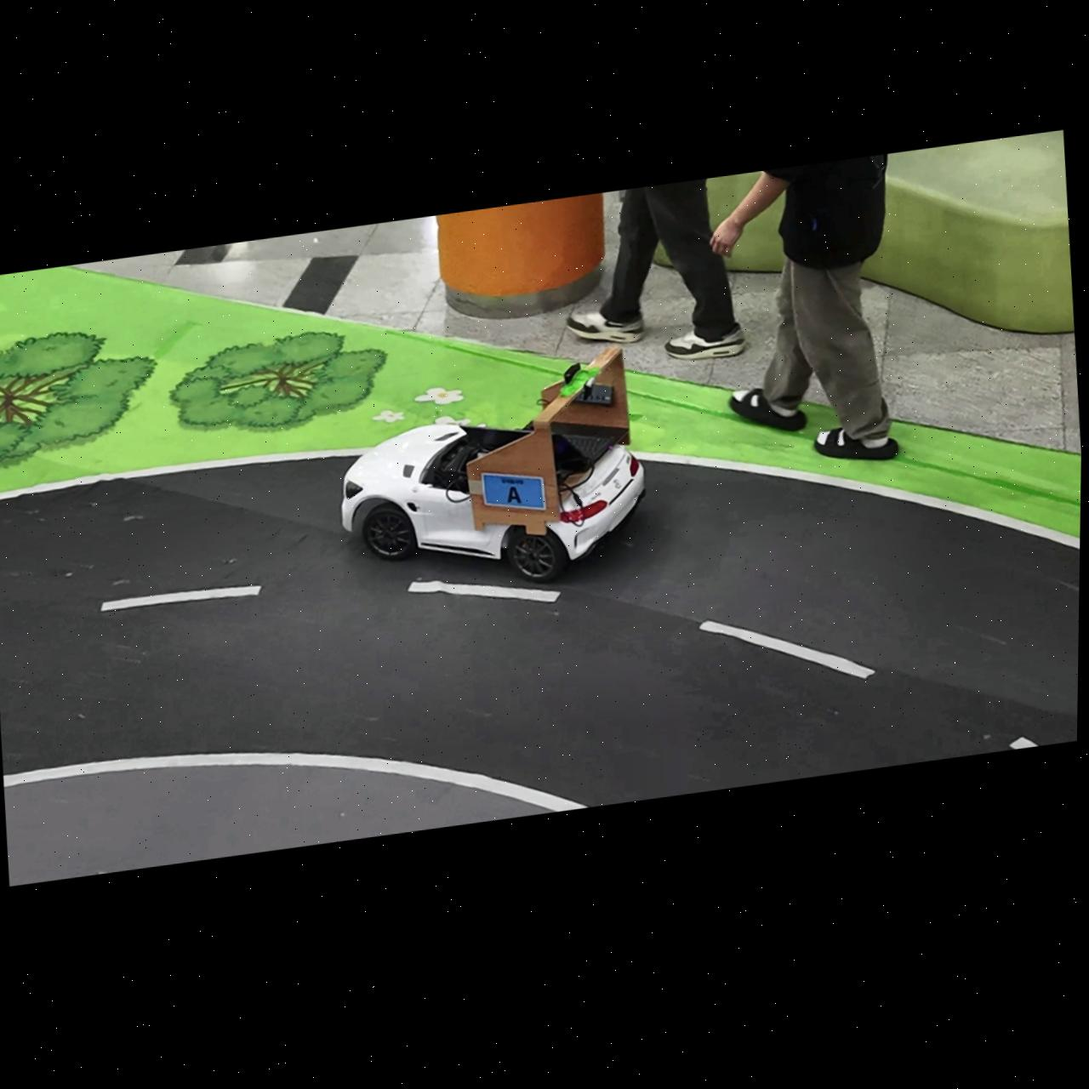broken_line: (699, 620, 875, 678), (100, 585, 261, 612), (408, 580, 561, 603), (1010, 736, 1039, 749)
